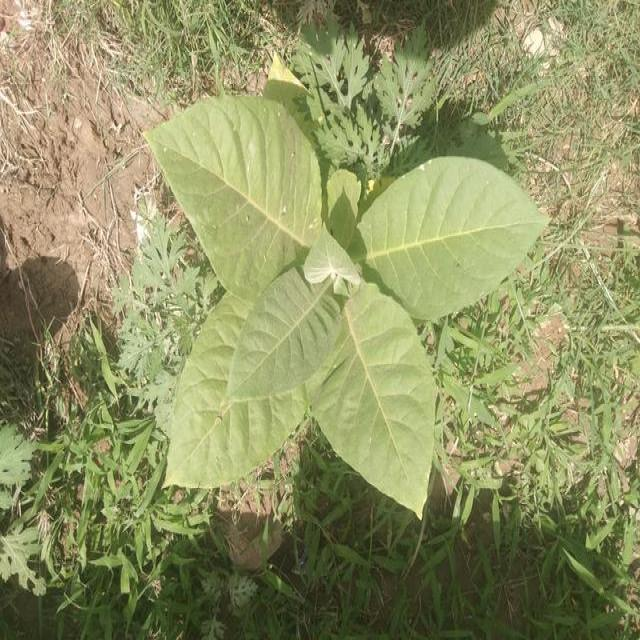crop: (154, 95, 530, 528)
